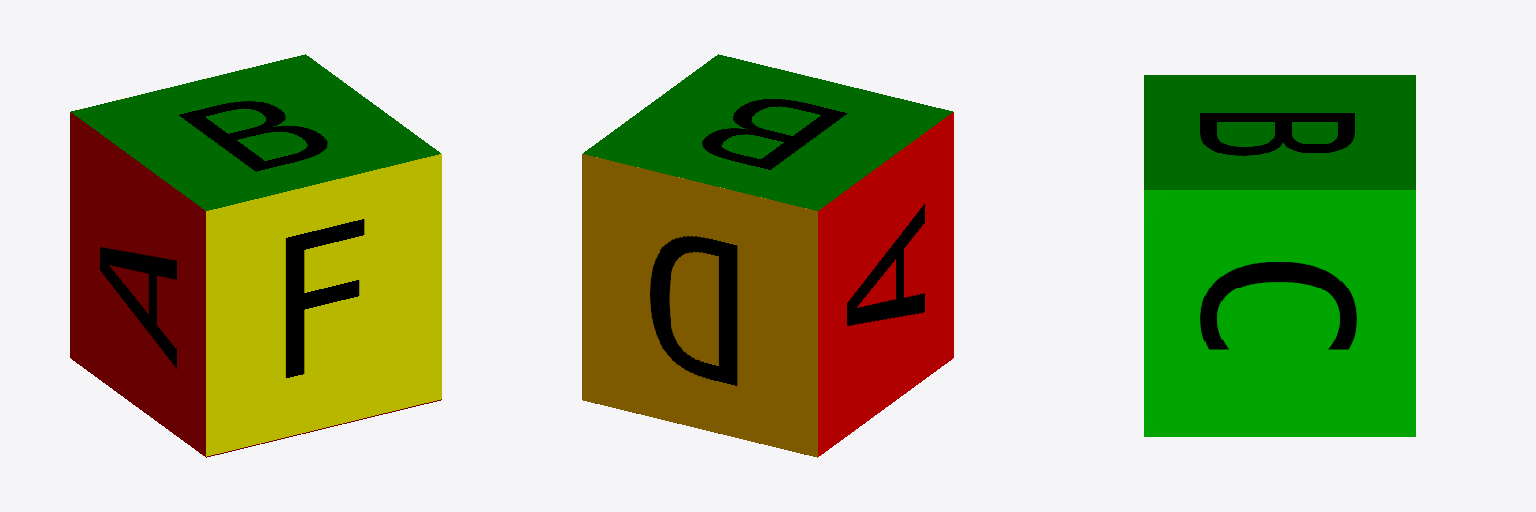
The picture shows the model from 3 angles: view 1: azimuth 30°, elevation 25°; view 2: azimuth 150°, elevation 25°; view 3: azimuth 270°, elevation 25°; orthographic projection.
Visible parts, largest first — view 1: Cube; view 2: Cube; view 3: Cube.
Part boxes in pixels (x1,y1,x2,y2): Cube: (70,54,441,457); Cube: (582,54,953,457); Cube: (1144,75,1415,436).
Size of the model in its own units: 2 by 2 by 2.
Materials: 1 (1 with a texture image).